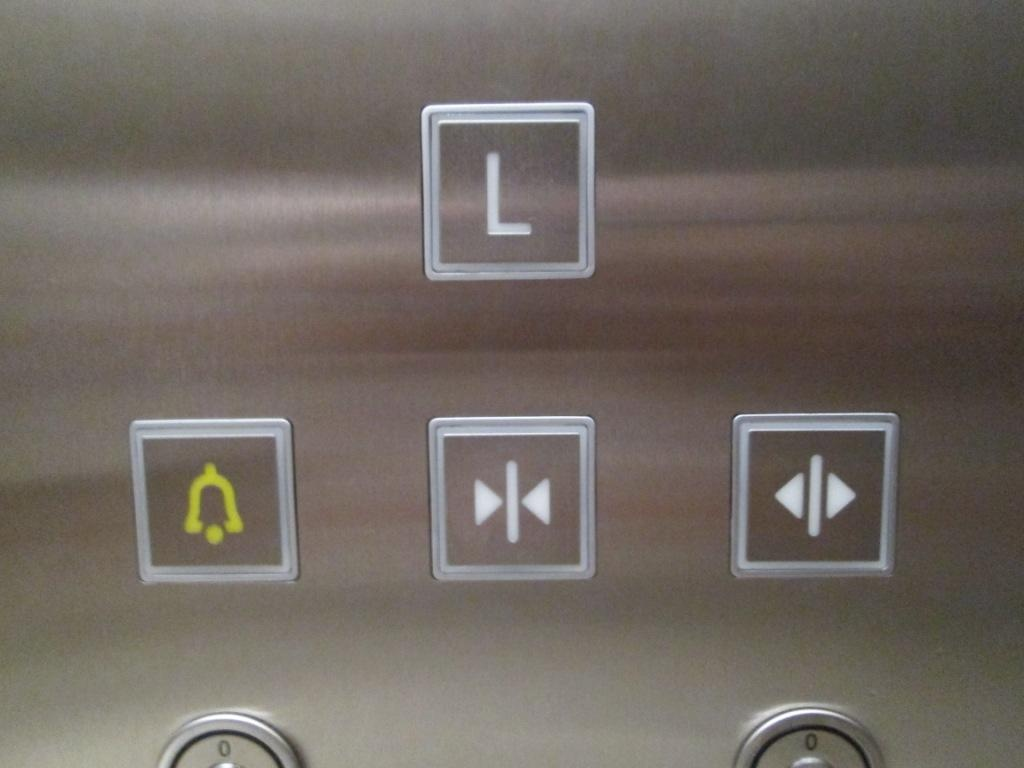L: (414, 98, 601, 288)
alarm: (121, 413, 306, 590)
close: (422, 410, 602, 588)
open: (724, 405, 904, 585)
